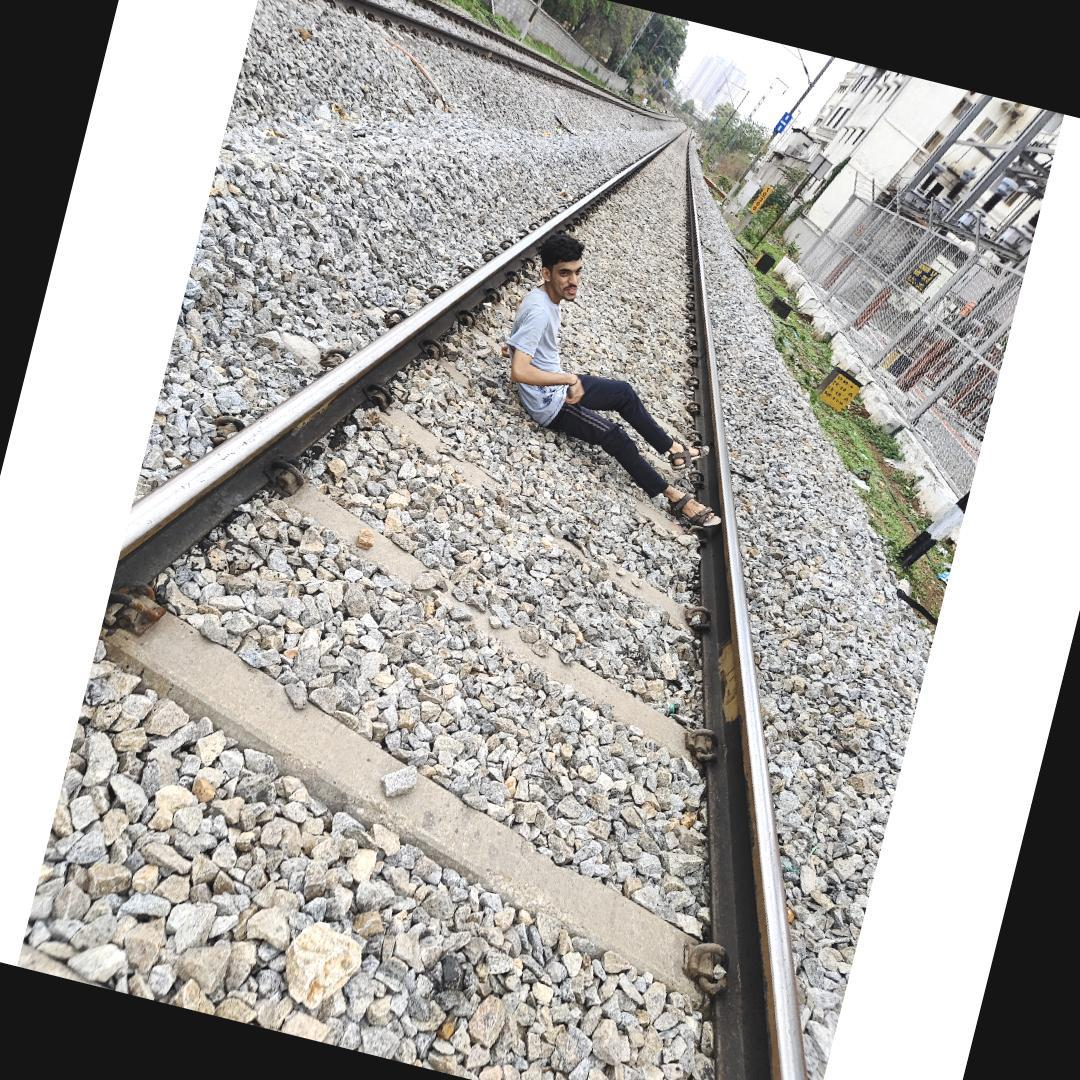sitting: (470, 224, 782, 536)
track: (16, 115, 831, 1080)
